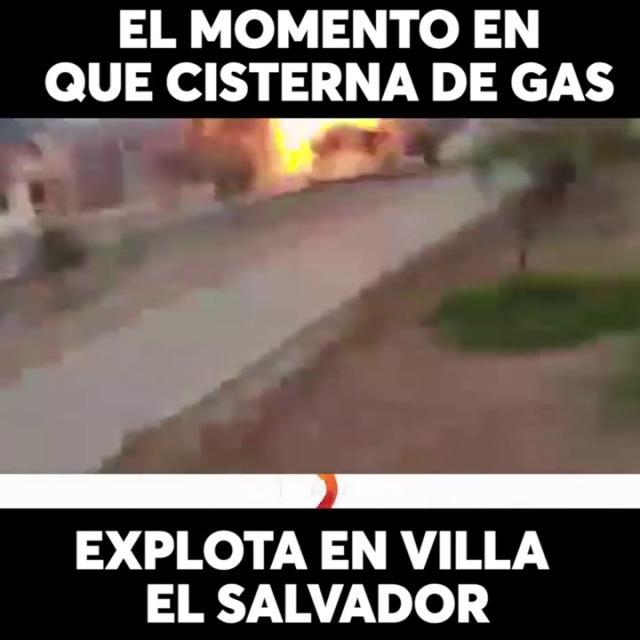Fire: (261, 119, 343, 172)
